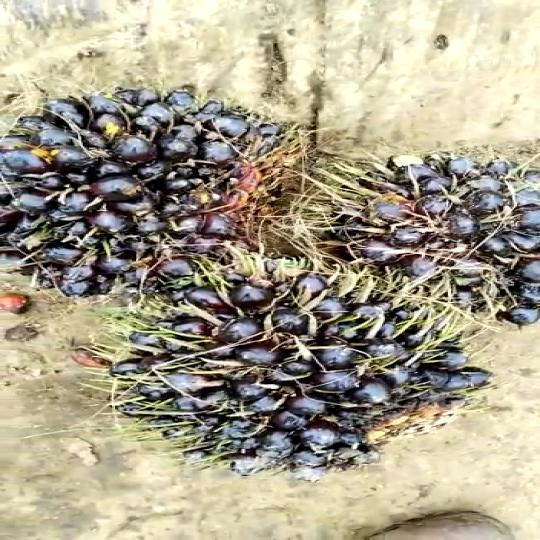mentah: (131, 257, 486, 495), (0, 68, 291, 301), (317, 129, 540, 322)
